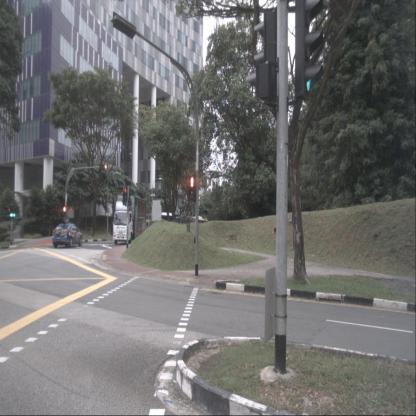vehicle-car: (52, 222, 82, 249)
vehicle-truck: (114, 193, 147, 245)
